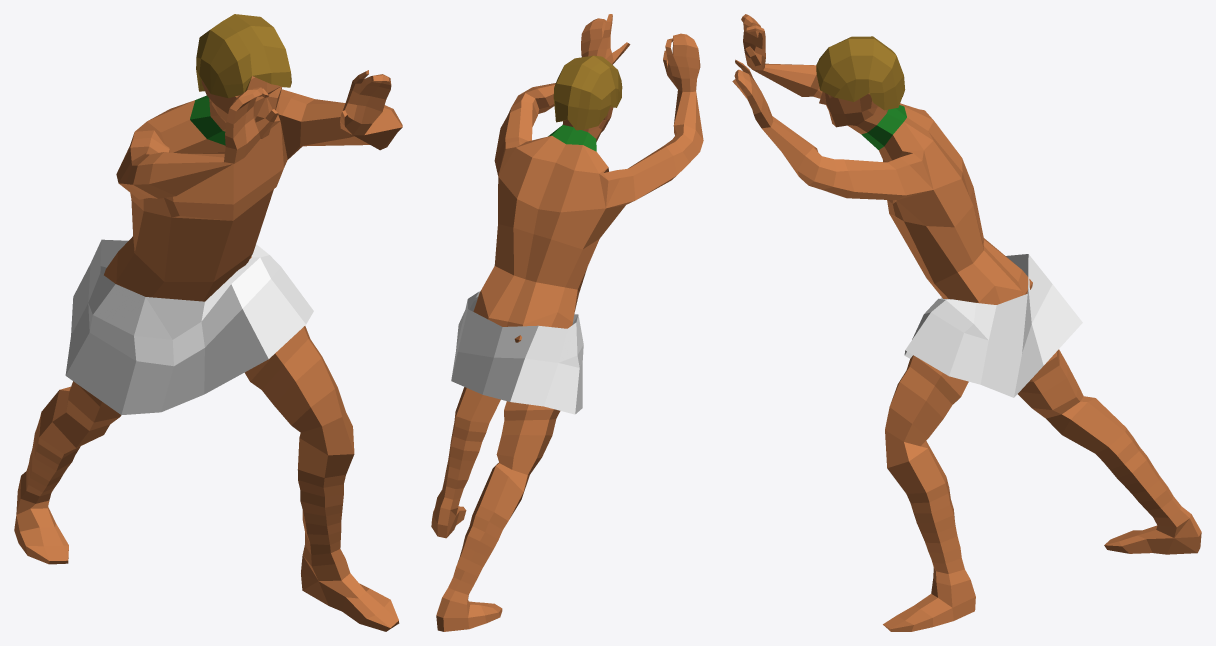
The model's file is meV2_egypt.obj.
3 views of the same model, side by side, from view 1: azimuth 30°, elevation 25°; view 2: azimuth 150°, elevation 25°; view 3: azimuth 270°, elevation 25° (orthographic). The views are drawn at different scales.
Parts seen in each view (by area): view 1: male_Circle.008, male.004_Circle.004; view 2: male_Circle.008, male.004_Circle.004; view 3: male_Circle.008, male.004_Circle.004.
Boxes of the visible parts, x1,y1,x2,y2 form: male_Circle.008: [14, 70, 402, 631]; male.004_Circle.004: [196, 14, 291, 98]; male_Circle.008: [431, 14, 703, 631]; male.004_Circle.004: [553, 55, 622, 130]; male_Circle.008: [732, 14, 1201, 631]; male.004_Circle.004: [816, 36, 905, 110].
Size of the model in its own units: 1.51 by 3.03 by 2.45.
